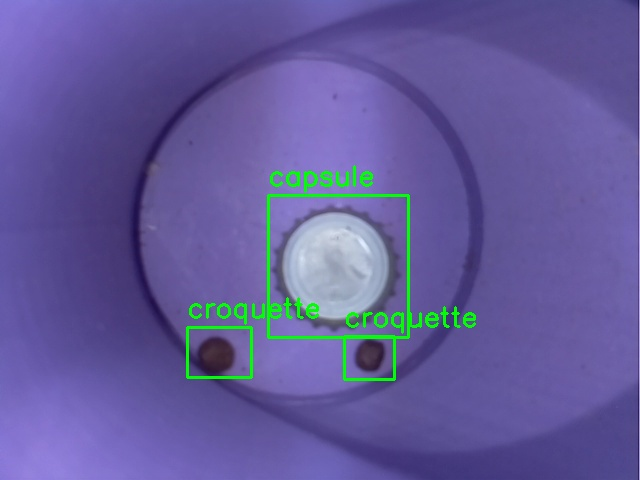capsule: (268, 195, 408, 337)
croquette: (187, 327, 251, 377), (344, 336, 394, 379)
